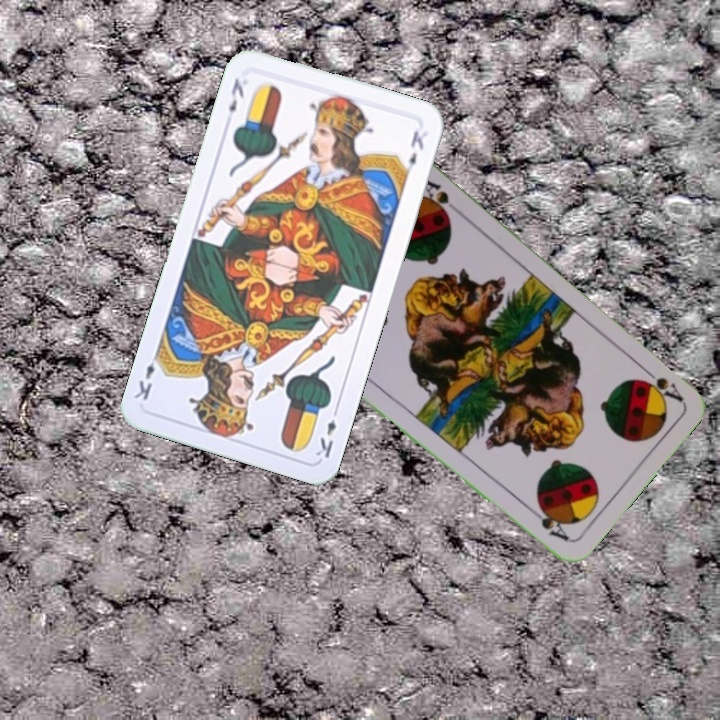EK: (312, 402, 342, 461), (224, 74, 247, 115)
SA: (636, 360, 686, 404)
